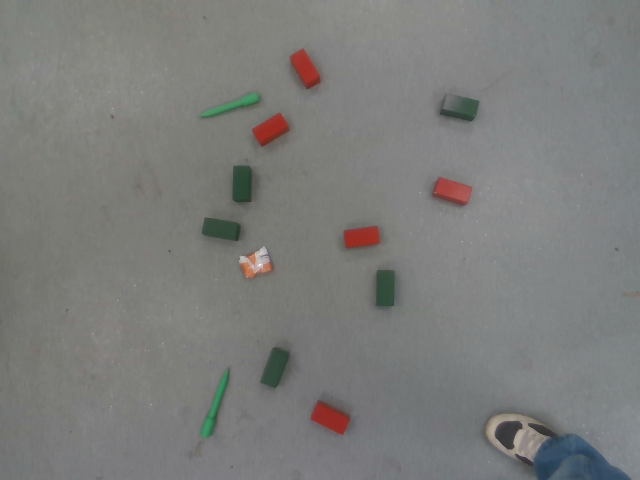Probe: (196, 364, 231, 440), (195, 90, 261, 119)
